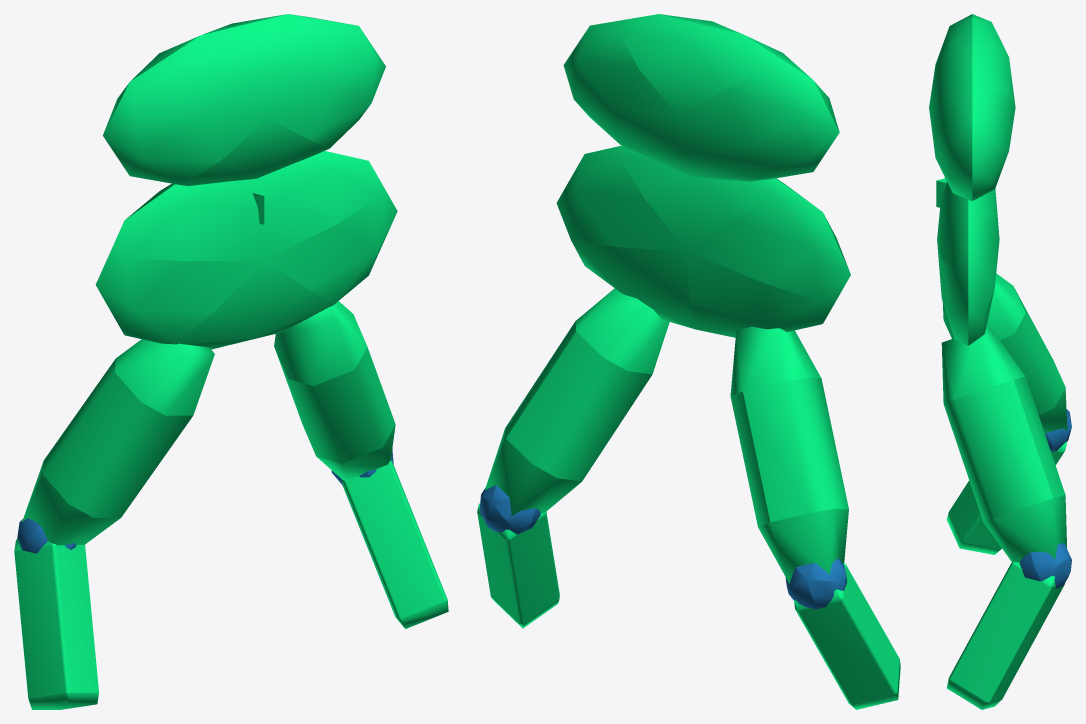
Rendered from Robots and Humanoids.glb.
3 renders of one model, left to right at view 1: azimuth 30°, elevation 25°; view 2: azimuth 150°, elevation 25°; view 3: azimuth 270°, elevation 25°, orthographic. The views are drawn at different scales.
Parts seen in each view (by area): view 1: Root; view 2: Root; view 3: Root.
Part boxes in pixels (x1,y1,x2,y2): Root: (14, 14, 448, 709); Root: (477, 14, 900, 709); Root: (929, 14, 1071, 709).
Bounding box in the file's own units: 1.97 × 2.96 × 0.6462.
